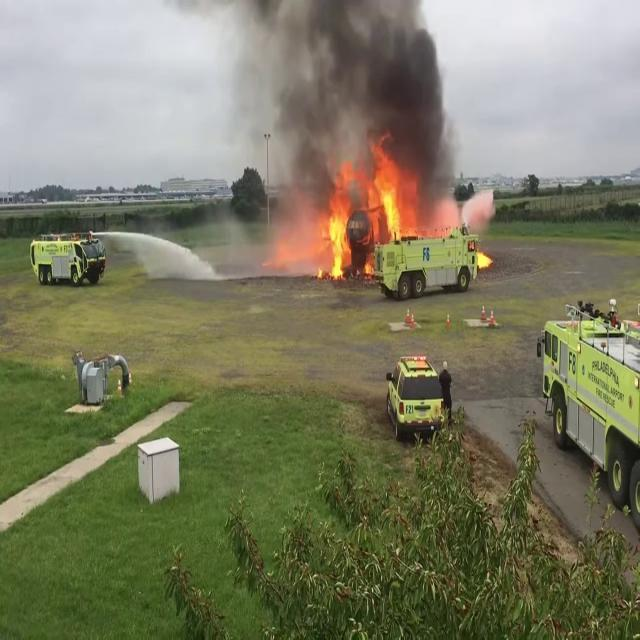Fire: (294, 151, 468, 284)
Smoke: (233, 0, 464, 186)
